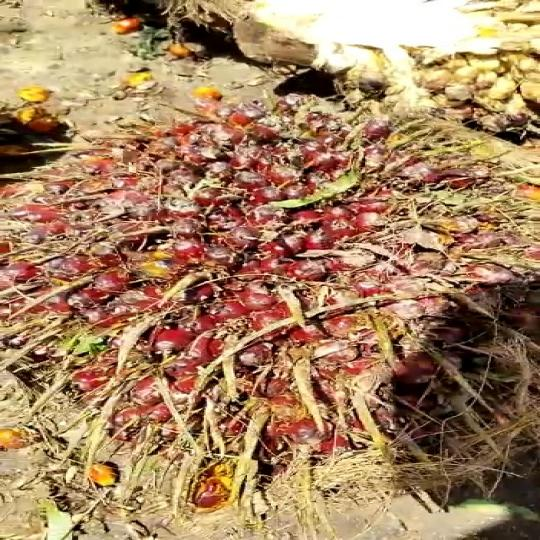masak: (0, 88, 540, 512)
